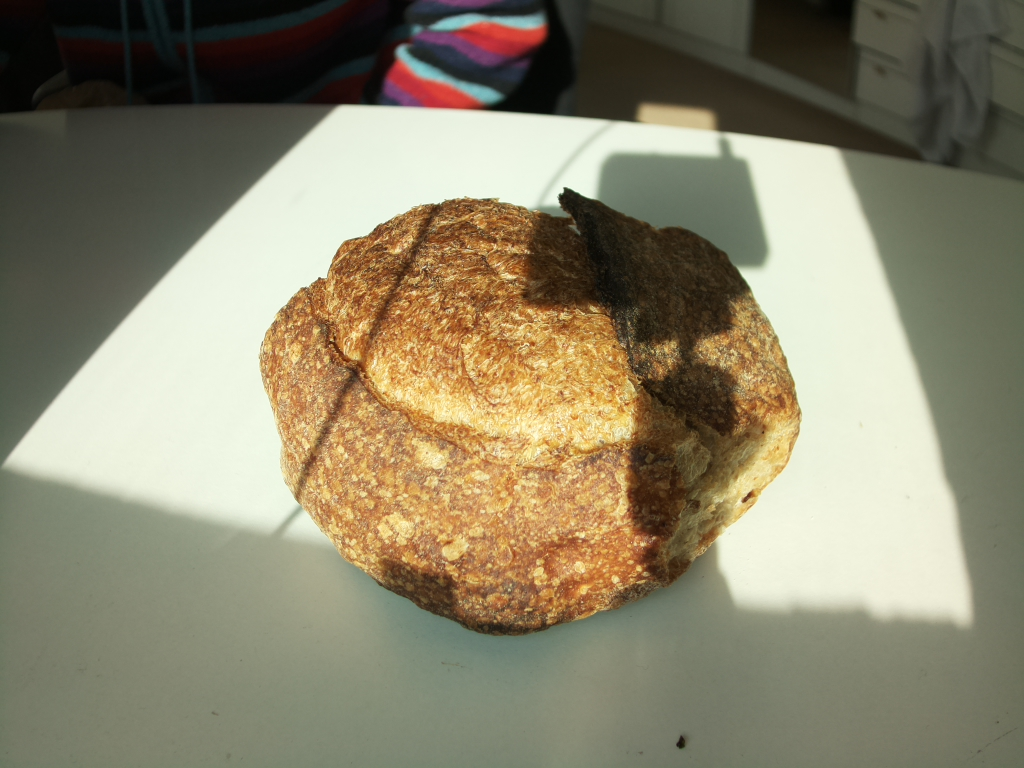bread: (261, 187, 805, 638)
